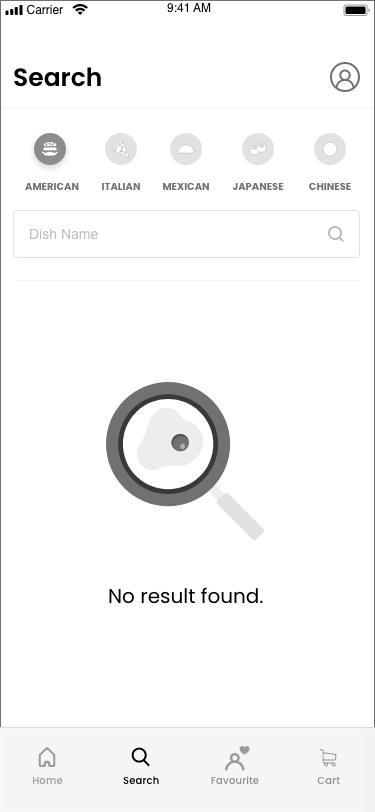Bottom_Navigation: (1, 728, 375, 811)
EditText: (14, 211, 360, 259)
Icon: (330, 62, 360, 93), (226, 745, 252, 771), (132, 746, 153, 768), (38, 746, 58, 768), (327, 226, 345, 243), (321, 748, 337, 767)
Image: (105, 382, 265, 542), (34, 132, 67, 167), (105, 133, 138, 166), (242, 133, 275, 166), (314, 133, 346, 166), (171, 133, 202, 166)
Text: (108, 586, 265, 604), (15, 68, 103, 88), (30, 229, 99, 240), (210, 776, 260, 786), (26, 183, 81, 191), (308, 182, 352, 192), (163, 182, 211, 191), (233, 183, 285, 191), (122, 775, 161, 785), (102, 183, 142, 192), (32, 775, 64, 786), (316, 776, 342, 785)
UpperTaskBar: (2, 1, 375, 18)
